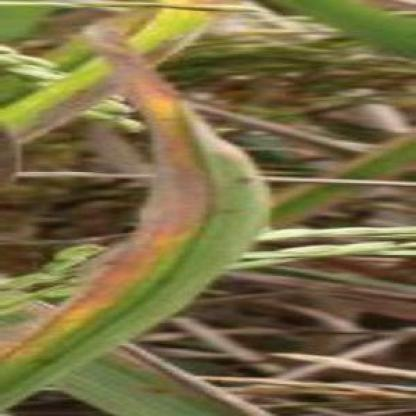Blight: (1, 33, 206, 374)
